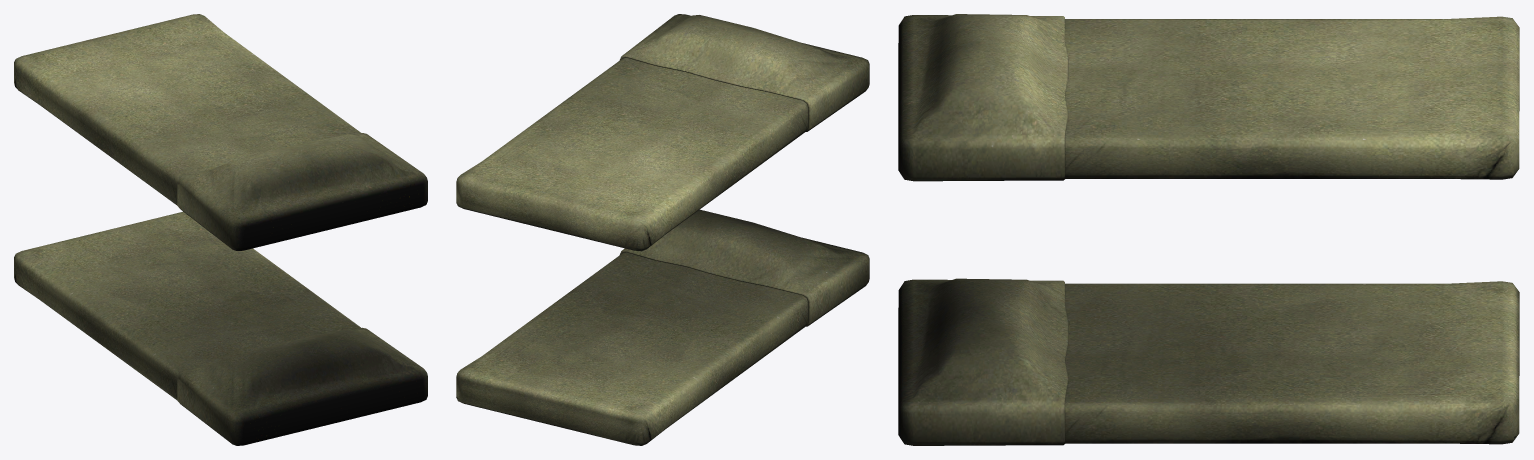
File: bunkbed2.glb
The picture shows the model from 3 angles, left to right: view 1: azimuth 30°, elevation 25°; view 2: azimuth 150°, elevation 25°; view 3: azimuth 270°, elevation 25°; orthographic projection. The views are drawn at different scales.
Visible parts, largest first — view 1: bunkbed2; view 2: bunkbed2; view 3: bunkbed2.
Boxes of the visible parts, bbox=[...] form: bunkbed2: bbox=[14, 14, 427, 445]; bunkbed2: bbox=[456, 14, 869, 445]; bunkbed2: bbox=[898, 14, 1519, 445].
Bounding box in the file's own units: 0.8751 × 1.07 × 1.76.
Materials: 1 (1 with a texture image).
